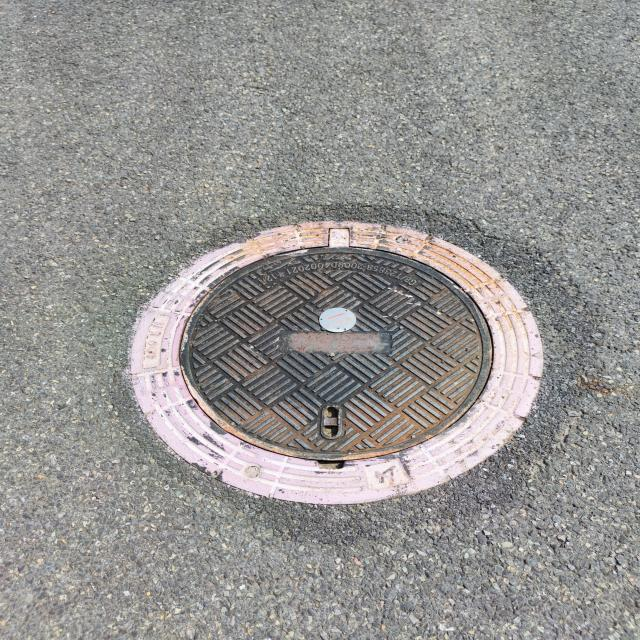Good: (123, 213, 554, 516)
